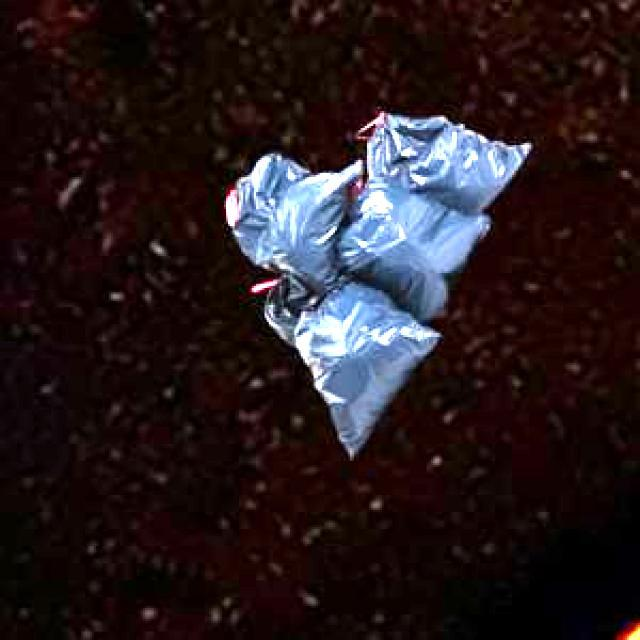Garbage_Bag: (223, 110, 528, 453)
